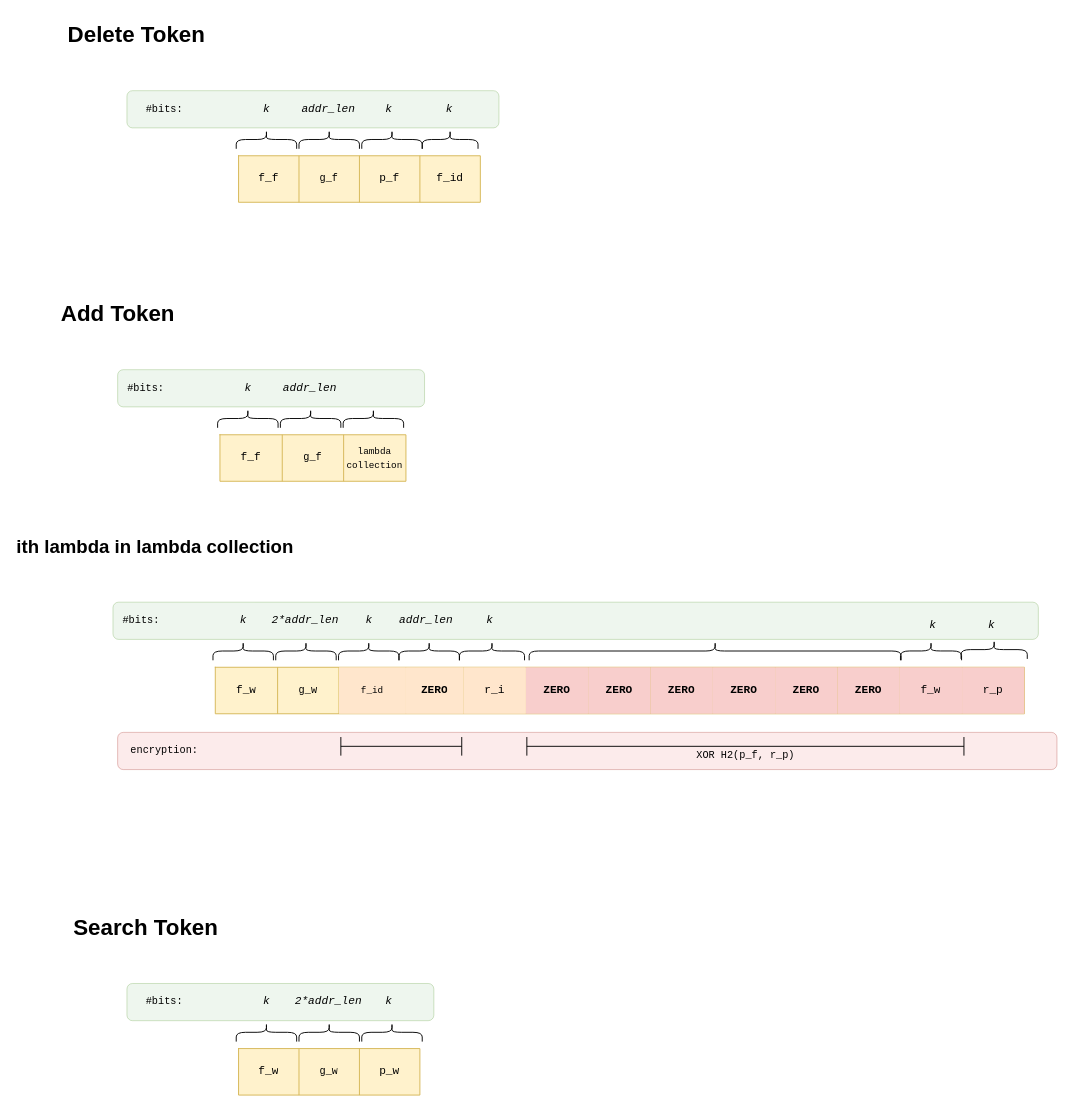
Image size: 1073x1111. Some labels were removed from this diagram. Each missing label, with the box of its shape:
6 * addr_len: (528, 641, 901, 660)
XOR H1(p_w, r_i): (340, 736, 462, 756)
